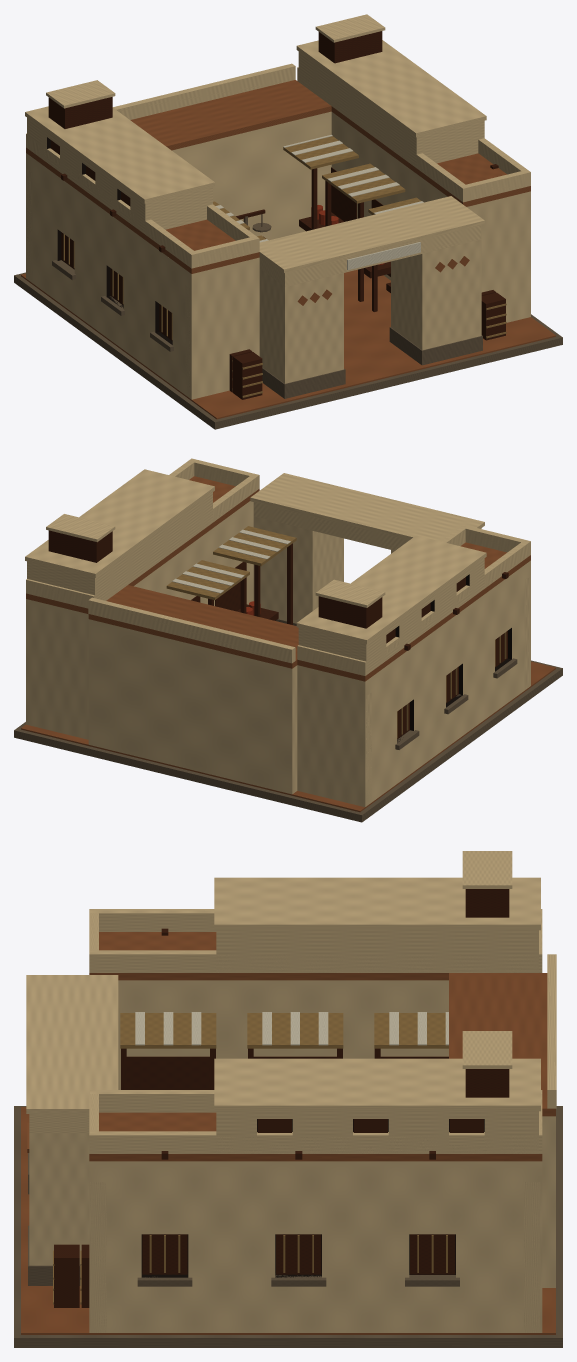
The model's file is Berber_Market_Age4.fbx.
The picture shows the model from 3 angles, top to bottom: view 1: azimuth 30°, elevation 25°; view 2: azimuth 150°, elevation 25°; view 3: azimuth 270°, elevation 25°; orthographic projection. The views are drawn at different scales.
Visible parts, largest first — view 1: west_warehouse, rear_goods_hall, court_floor, east_warehouse, entry_right_pier, entry_left_pier, west_upper_cap, east_upper_cap, entry_coping, rear_hall_roof, foundation, east_upper_store (+25 smaller); view 2: west_warehouse, rear_goods_hall, east_warehouse, west_upper_cap, east_upper_cap, entry_coping, foundation, entry_right_pier, rear_hall_roof, east_upper_store, west_upper_store, rear_hall_parapet (+20 smaller); view 3: east_warehouse, west_warehouse, east_upper_cap, west_upper_cap, west_upper_store, entry_coping, foundation, east_parapet.001, east_upper_store, west_parapet.001, rear_hall_roof, entry_right_pier (+26 smaller).
Boxes of the visible parts, x1,y1,x2,y2 form: west_warehouse: (26,153,259,399); rear_goods_hall: (172,111,331,240); court_floor: (21,269,555,419); east_warehouse: (331,112,530,322); entry_right_pier: (391,239,481,350); entry_left_pier: (259,269,343,383); west_upper_cap: (25,106,214,203); east_upper_cap: (296,40,486,137); entry_coping: (259,196,484,272); rear_hall_roof: (130,80,331,150); foundation: (14,272,562,429); east_upper_store: (298,52,484,167); west_warehouse: (297,560,530,807); rear_goods_hall: (88,619,297,794); east_warehouse: (26,501,253,739); west_upper_cap: (296,535,486,644); east_upper_cap: (25,469,214,577); entry_coping: (250,473,484,541); foundation: (14,660,562,822); entry_right_pier: (253,516,343,623); rear_hall_roof: (88,585,298,668); east_upper_store: (27,492,212,600); west_upper_store: (298,558,484,674); rear_hall_parapet: (88,597,295,663); east_warehouse: (89,1161,542,1332); west_warehouse: (118,980,448,1089); east_upper_cap: (214,1058,540,1111); west_upper_cap: (214,877,540,930); west_upper_store: (216,930,538,972); entry_coping: (26,975,118,1113); foundation: (14,1106,562,1347); east_parapet.001: (89,1131,542,1153); east_upper_store: (216,1111,538,1153); west_parapet.001: (89,950,542,972); rear_hall_roof: (449,973,555,1116); entry_right_pier: (29,1133,89,1265).
Bounding box in the file's own units: 800 × 440 × 800.
8 materials, 8 textured.
